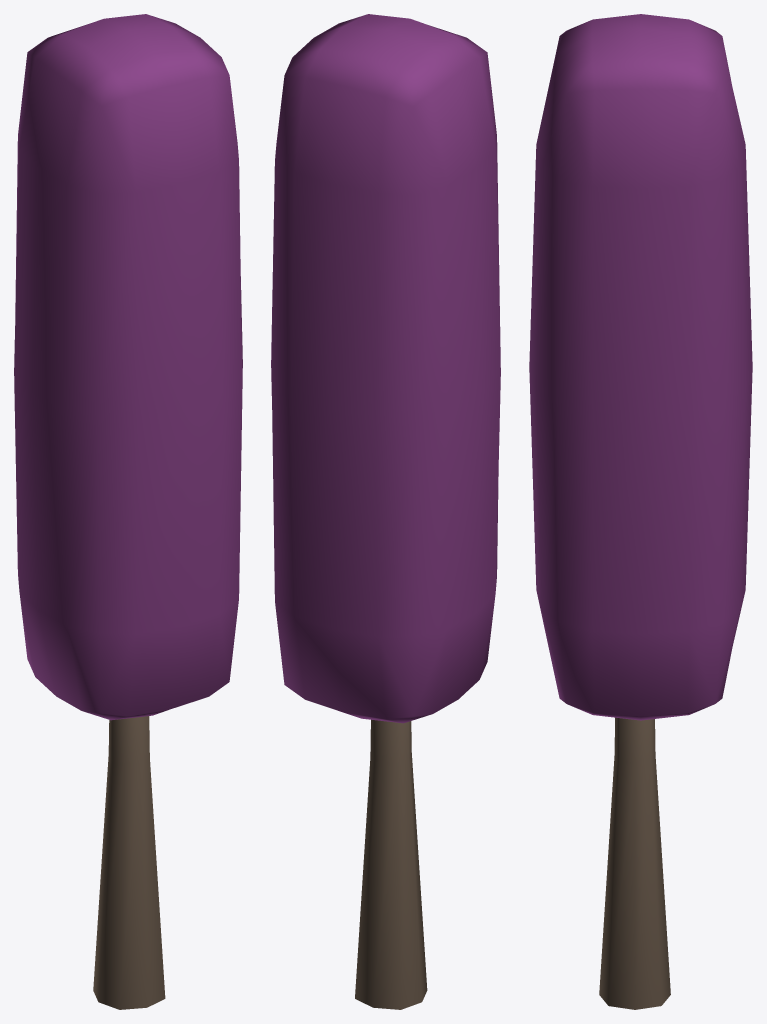
File: shaped_tree_05.fbx
3 renders of one model, left to right at view 1: azimuth 30°, elevation 25°; view 2: azimuth 150°, elevation 25°; view 3: azimuth 270°, elevation 25°, orthographic.
Parts seen in each view (by area): view 1: shaped_tree_5; view 2: shaped_tree_5; view 3: shaped_tree_5.
Boxes of the visible parts, box(x1,y1,x2,y2) form: shaped_tree_5: box(14, 14, 242, 1009); shaped_tree_5: box(271, 14, 500, 1009); shaped_tree_5: box(529, 14, 752, 1009).
Size of the model in its own units: 3.78 by 18.06 by 3.78.
